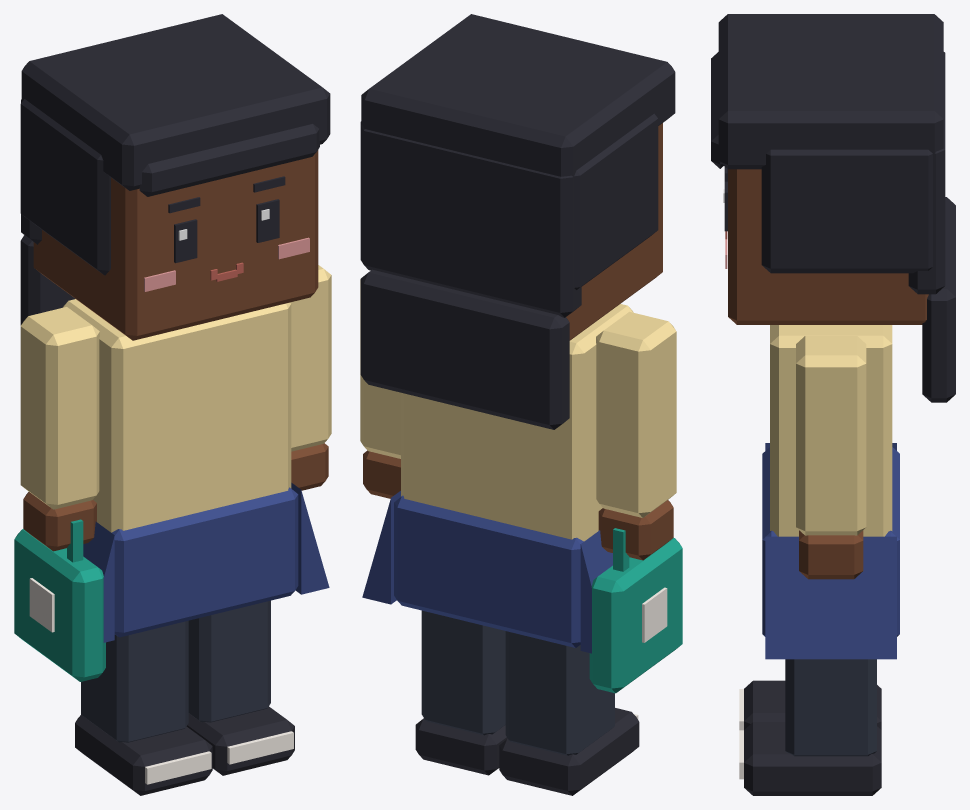
Rendered from CatCafe_NPC_Customer_L.glb.
3 views of the same model, side by side, from view 1: azimuth 30°, elevation 25°; view 2: azimuth 150°, elevation 25°; view 3: azimuth 270°, elevation 25° (orthographic). The views are drawn at different scales.
Visible parts, largest first — view 1: CatCafe_NPC_Customer_L; view 2: CatCafe_NPC_Customer_L; view 3: CatCafe_NPC_Customer_L.
Part boxes in pixels (x1,y1,x2,y2): CatCafe_NPC_Customer_L: [14, 14, 331, 795]; CatCafe_NPC_Customer_L: [360, 14, 682, 795]; CatCafe_NPC_Customer_L: [711, 14, 955, 795].
Bounding box in the file's own units: 2.22 × 5.02 × 1.6.
1 material, 1 textured.
